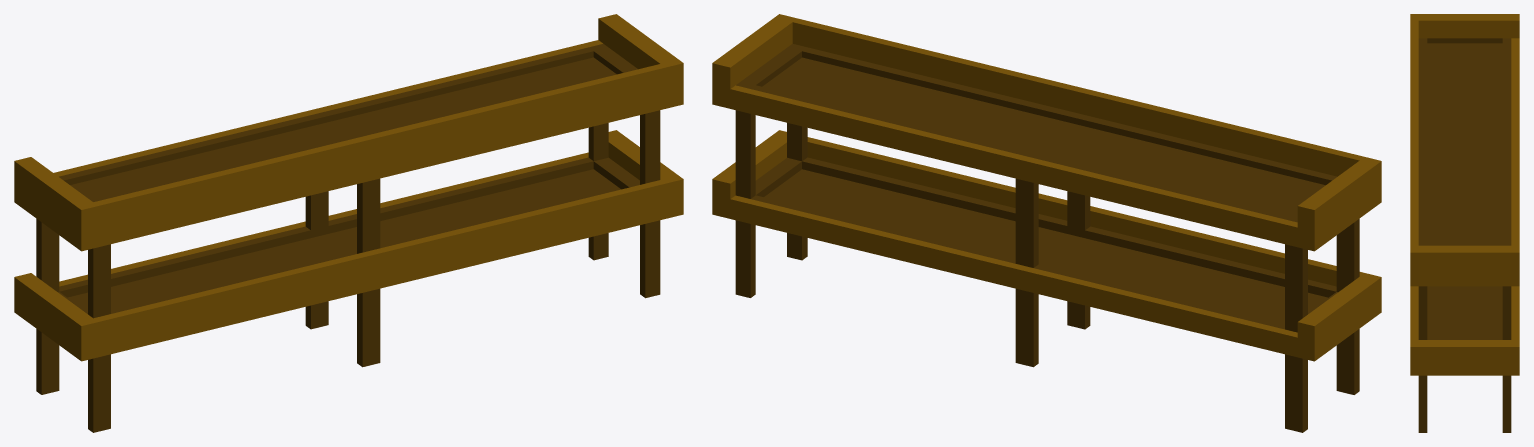
File: Sitting floor1.fbx
The picture shows the model from 3 angles, left to right: view 1: azimuth 30°, elevation 25°; view 2: azimuth 150°, elevation 25°; view 3: azimuth 270°, elevation 25°; orthographic projection. The views are drawn at different scales.
Parts seen in each view (by area): view 1: pCube42; view 2: pCube42; view 3: pCube42.
Part boxes in pixels (x1,y1,x2,y2): pCube42: [14, 14, 683, 432]; pCube42: [712, 14, 1381, 432]; pCube42: [1410, 14, 1519, 432].
Bounding box in the file's own units: 13.58 × 4.97 × 2.62.
